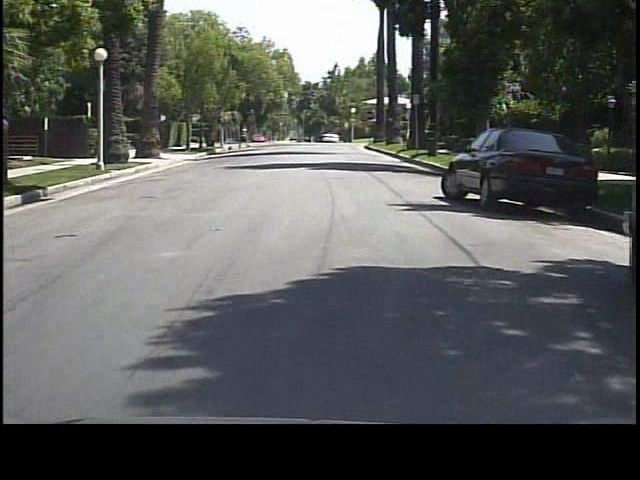person: (239, 125, 252, 153)
